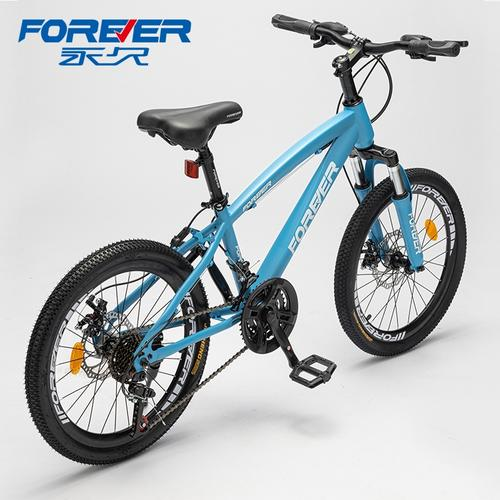单车: (25, 10, 467, 469)
